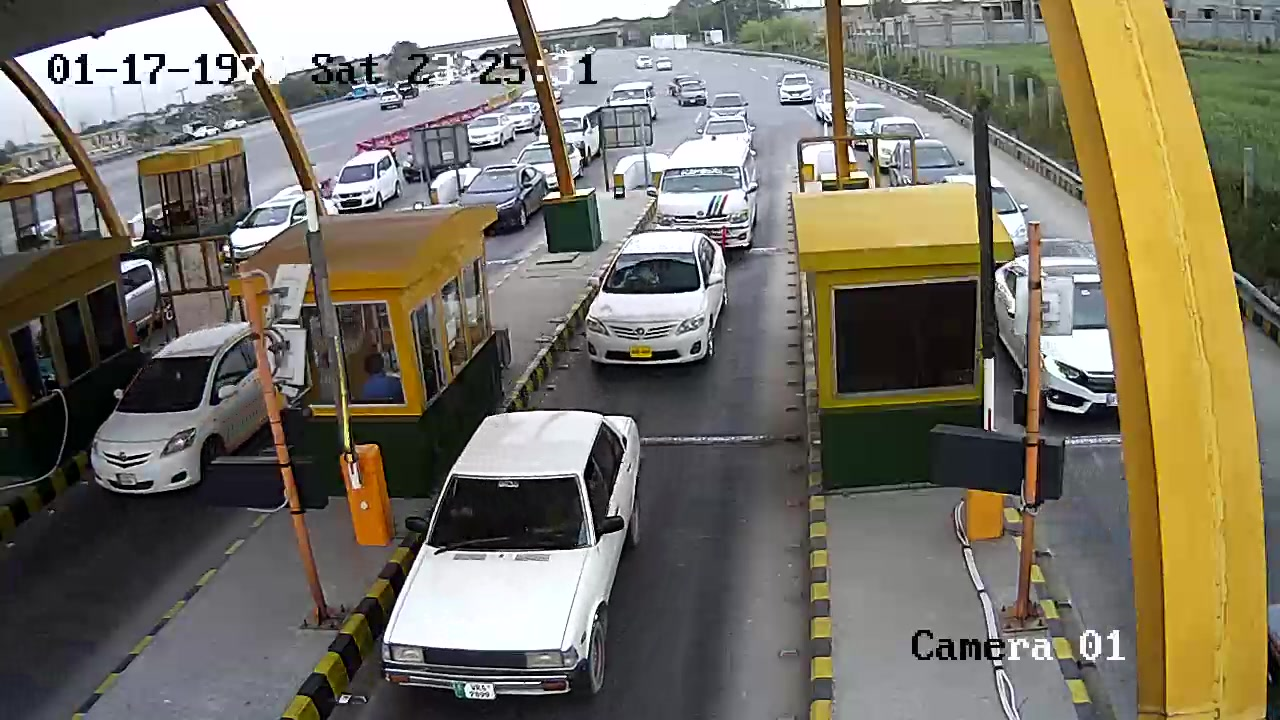F1: (377, 406, 654, 700), (582, 230, 738, 375)
